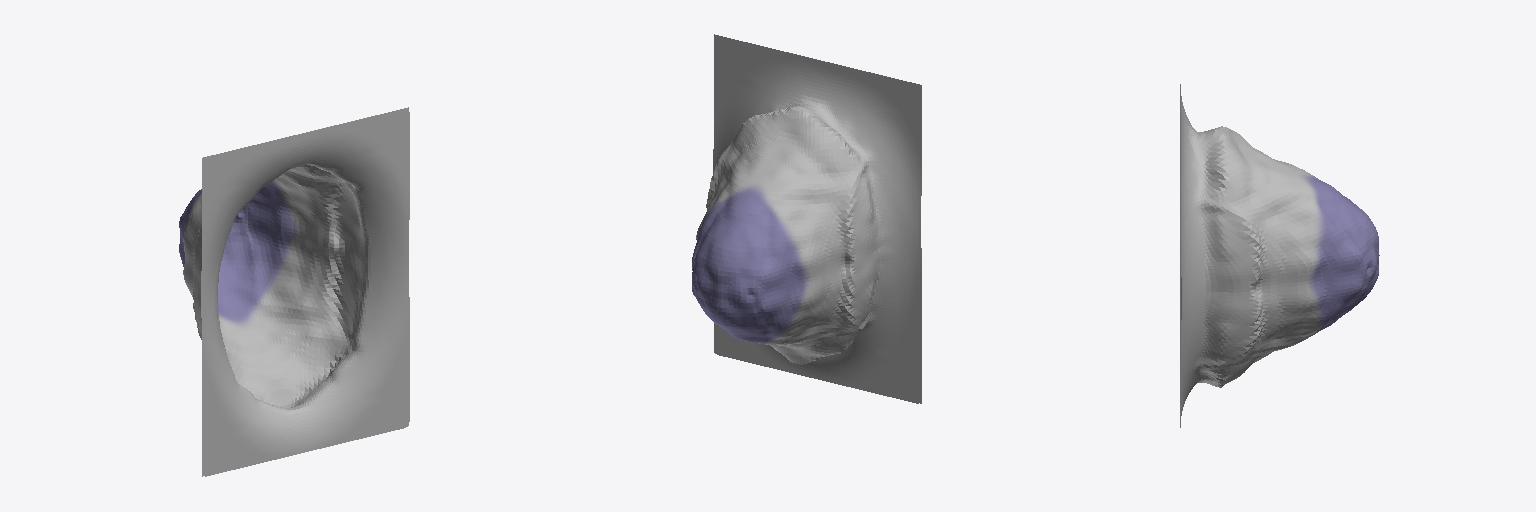
The picture shows the model from 3 angles: view 1: azimuth 30°, elevation 25°; view 2: azimuth 150°, elevation 25°; view 3: azimuth 270°, elevation 25°; orthographic projection.
Parts seen in each view (by area): view 1: Plane; view 2: Plane; view 3: Plane.
Boxes of the visible parts, x1,y1,x2,y2 form: Plane: [179, 107, 409, 476]; Plane: [692, 34, 921, 403]; Plane: [1180, 84, 1379, 427].
Size of the model in its own units: 165 by 243 by 137.
Materials: 1 (1 with a texture image).